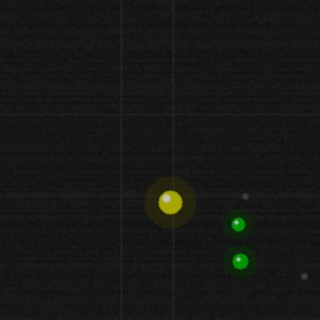green_normal: (230, 251, 250, 271), (229, 215, 247, 233)
yellow_warning: (156, 188, 184, 216)
